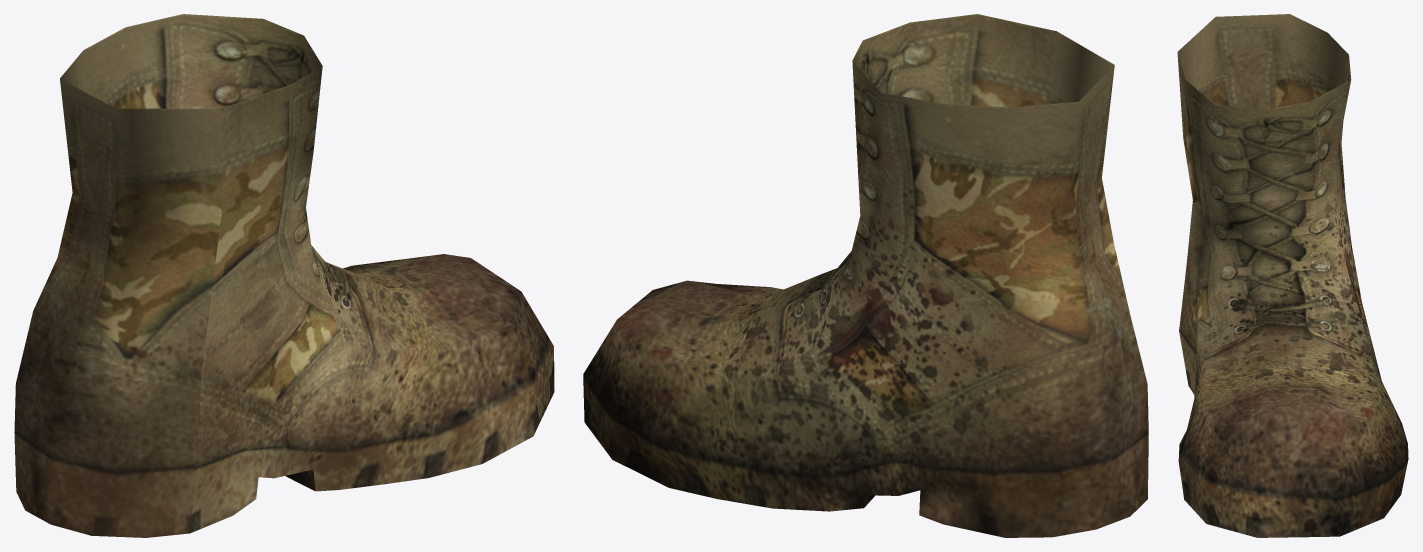
Rendered from boot.obj.
The picture shows the model from 3 angles, left to right: view 1: azimuth 30°, elevation 25°; view 2: azimuth 150°, elevation 25°; view 3: azimuth 270°, elevation 25°; orthographic projection. The views are drawn at different scales.
Visible parts, largest first — view 1: TurtleDefaultBakeLayer polySurface113 polySurface119 polySurface; view 2: TurtleDefaultBakeLayer polySurface113 polySurface119 polySurface; view 3: TurtleDefaultBakeLayer polySurface113 polySurface119 polySurface.
Part boxes in pixels (<box>): TurtleDefaultBakeLayer polySurface113 polySurface119 polySurface: <box>14,14,554,537</box>; TurtleDefaultBakeLayer polySurface113 polySurface119 polySurface: <box>583,14,1148,537</box>; TurtleDefaultBakeLayer polySurface113 polySurface119 polySurface: <box>1177,14,1408,537</box>.
Size of the model in its own units: 35.82 by 28.63 by 17.07.
Materials: 1 (1 with a texture image).
